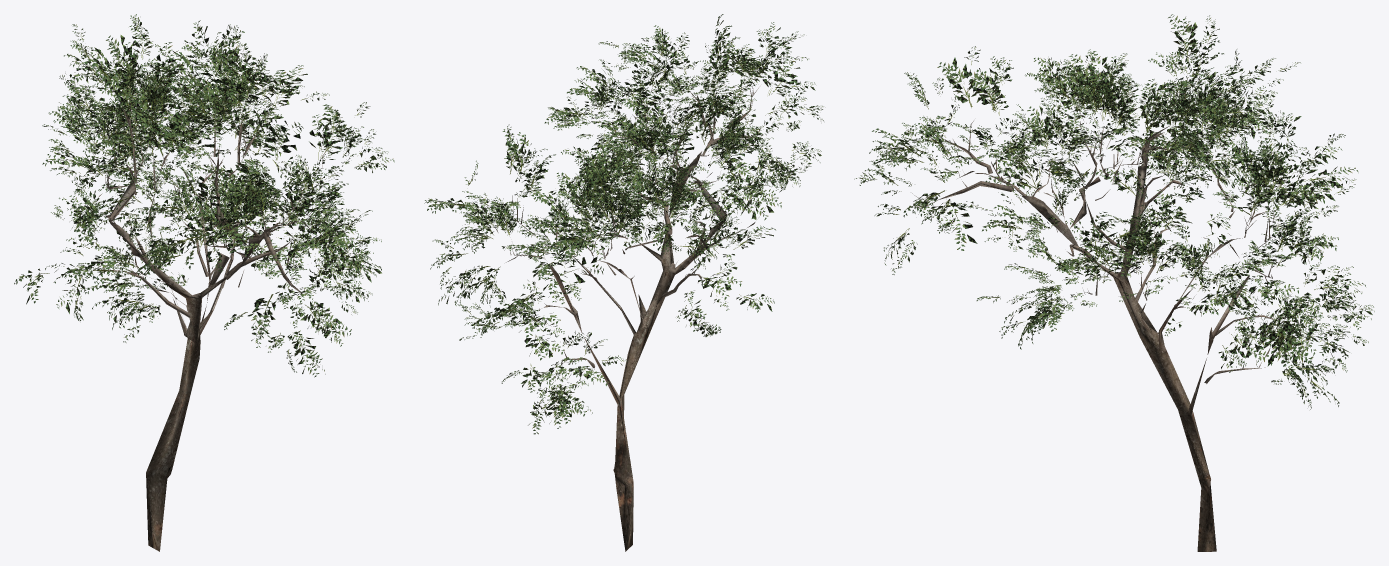
Rendered from vancouver-street-tree-far.glb.
3 renders of one model, left to right at view 1: azimuth 30°, elevation 25°; view 2: azimuth 150°, elevation 25°; view 3: azimuth 270°, elevation 25°, orthographic. The views are drawn at different scales.
Parts seen in each view (by area): view 1: tree_small_02_LOD0; view 2: tree_small_02_LOD0; view 3: tree_small_02_LOD0.
Part boxes in pixels (left/top/right/bottom): tree_small_02_LOD0: left=14, top=14, right=394, bottom=551; tree_small_02_LOD0: left=424, top=14, right=823, bottom=551; tree_small_02_LOD0: left=854, top=14, right=1374, bottom=551.
Bounding box in the file's own units: 2.92 × 4.55 × 4.29.
Materials: 3 (3 with a texture image).
